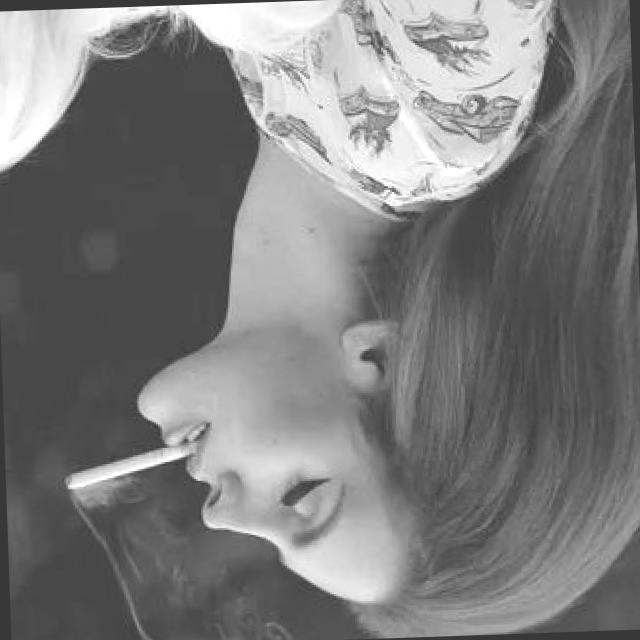smoke: (58, 426, 208, 489)
